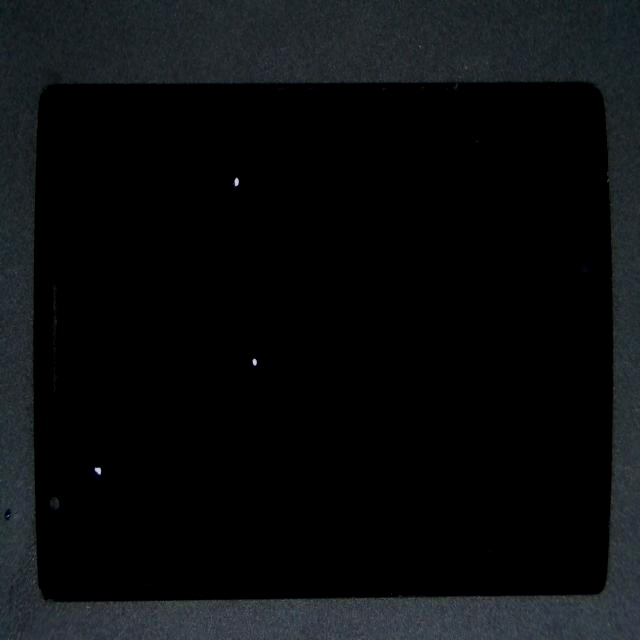stain: (145, 163, 368, 513), (81, 73, 337, 306), (65, 201, 146, 640)
